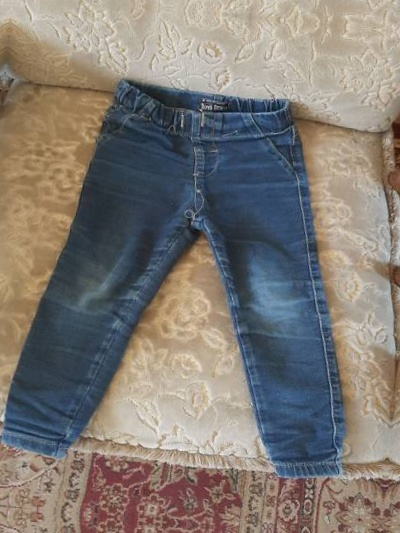Pants: (19, 50, 384, 492)
